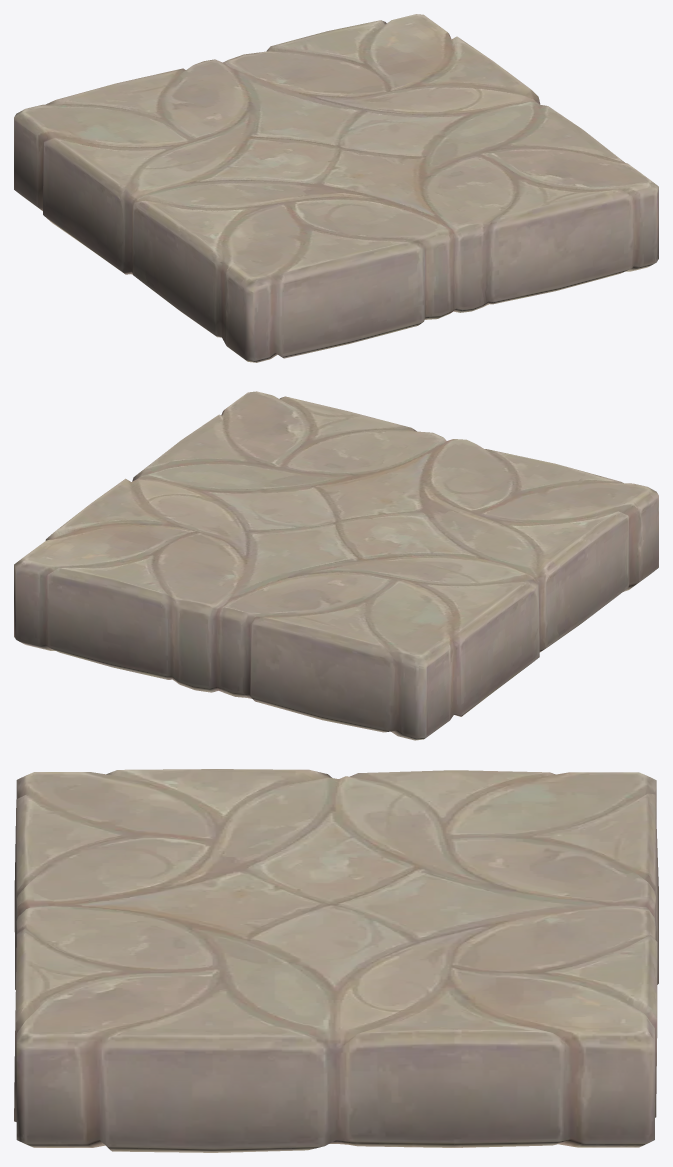
The picture shows the model from 3 angles, top to bottom: view 1: azimuth 30°, elevation 25°; view 2: azimuth 150°, elevation 25°; view 3: azimuth 270°, elevation 25°; orthographic projection. The views are drawn at different scales.
Size of the model in its own units: 4.08 by 0.8494 by 4.07.
Materials: 1 (1 with a texture image).
